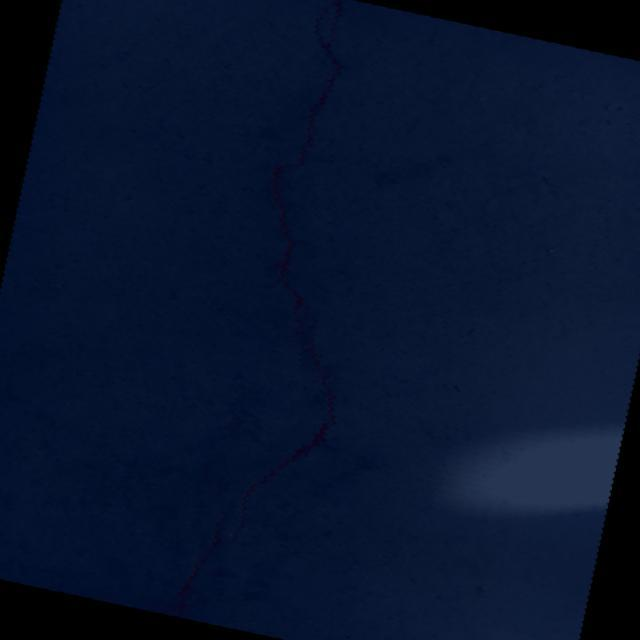crack: (195, 0, 422, 555), (170, 488, 236, 624)
